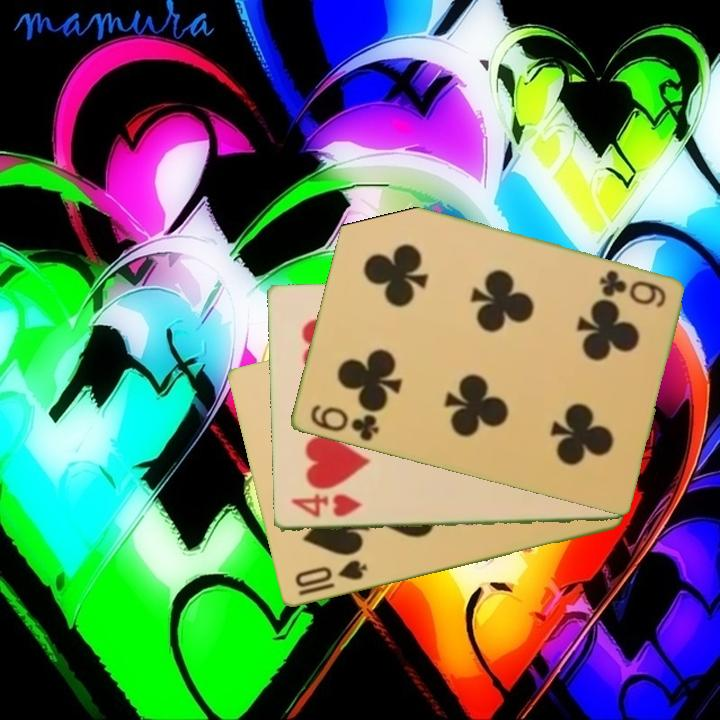10s: (291, 556, 370, 591)
4h: (288, 492, 365, 520)
6c: (306, 401, 382, 445), (595, 266, 669, 310)
